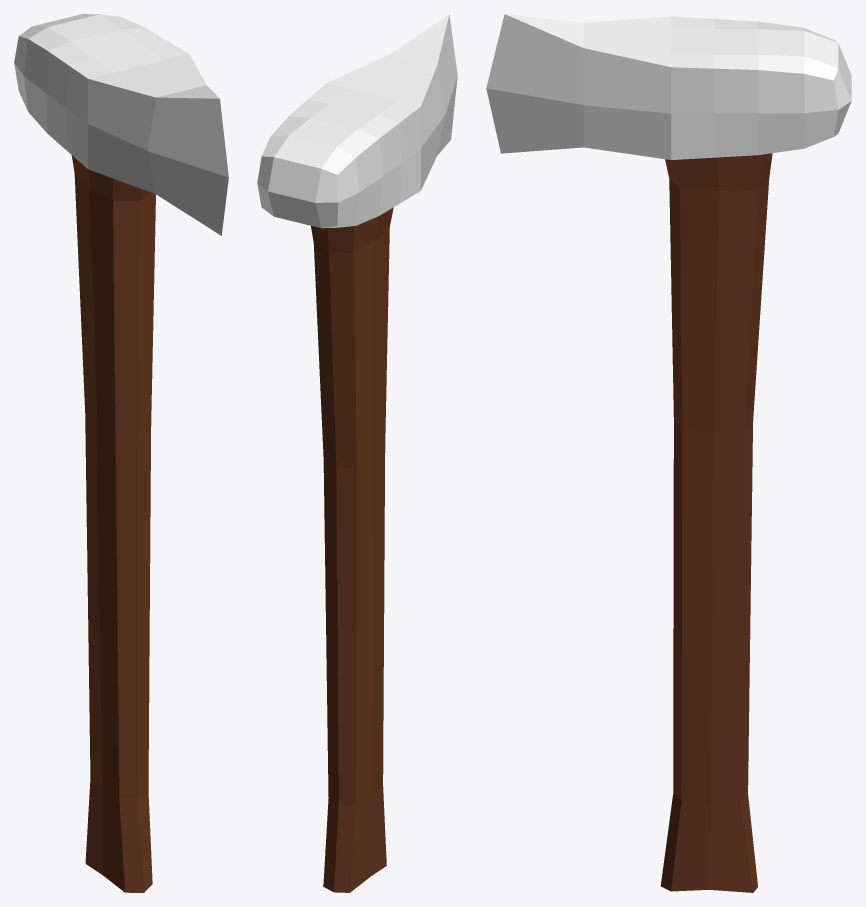
File: splitting-maul.glb
The picture shows the model from 3 angles, left to right: view 1: azimuth 30°, elevation 25°; view 2: azimuth 150°, elevation 25°; view 3: azimuth 270°, elevation 25°; orthographic projection. The views are drawn at different scales.
Parts seen in each view (by area): view 1: Cube; view 2: Cube; view 3: Cube.
Boxes of the visible parts, <box> form: Cube: <box>14,14,228,892</box>; Cube: <box>257,14,457,892</box>; Cube: <box>486,14,851,892</box>.
Size of the model in its own units: 0.2935 by 2.35 by 0.892.
